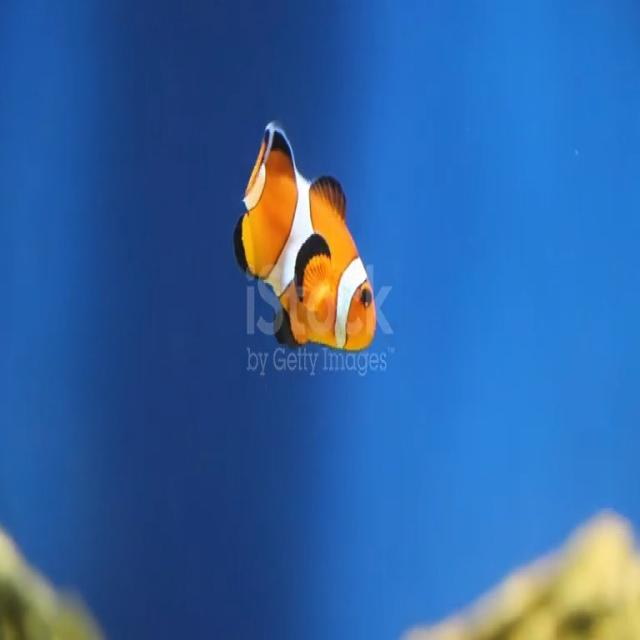fish: (234, 116, 376, 360)
